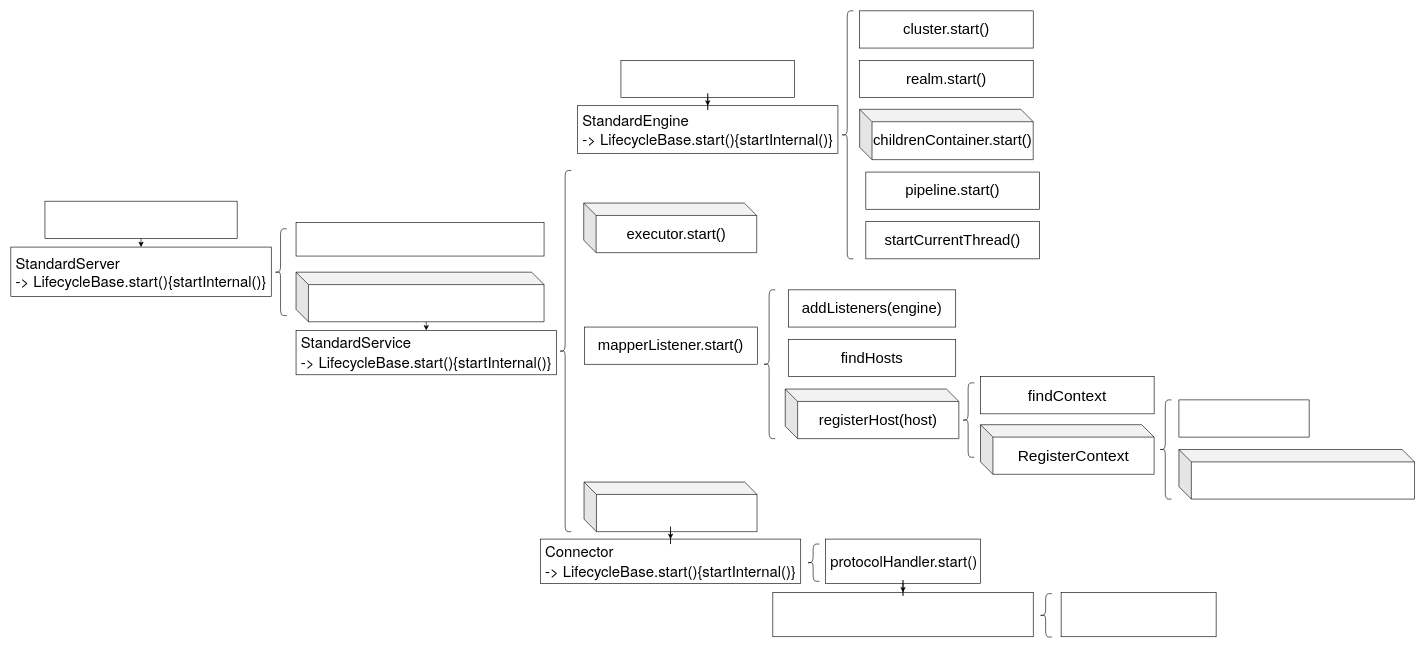
The diagram is 1425 pixels wide and 648 high, and some of its shapes have lost their labels. Here are the shapes that lost their labels. From the top down, the centre of each, then its label:
pixel 707 79: engine.start()
pixel 140 219: Catalina.getServer().start()
pixel 419 239: globalNamingResources.start()
pixel 419 297: service.start()
pixel 1243 418: findWrapper
pixel 1296 474: prepareWrapperMappingInfo
pixel 670 506: connector.start()
pixel 902 614: protocolHandler -> LifecycleBase.start(){startInternal()}
pixel 1138 614: endpoint.start()
